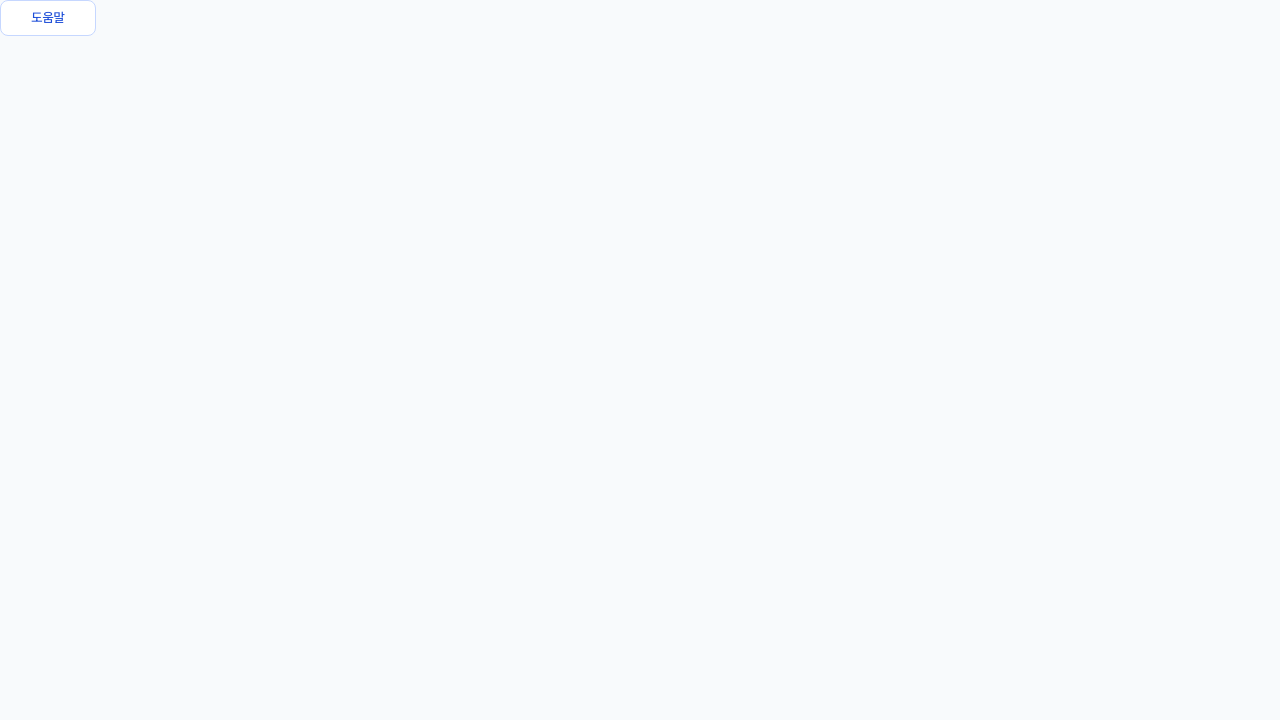
Test: an adapter failure is reported as a system error and a restart really retries
The image size is (1280, 720).
Click the button "도움말" at (48, 18), box left=0, top=0, right=96, bottom=36
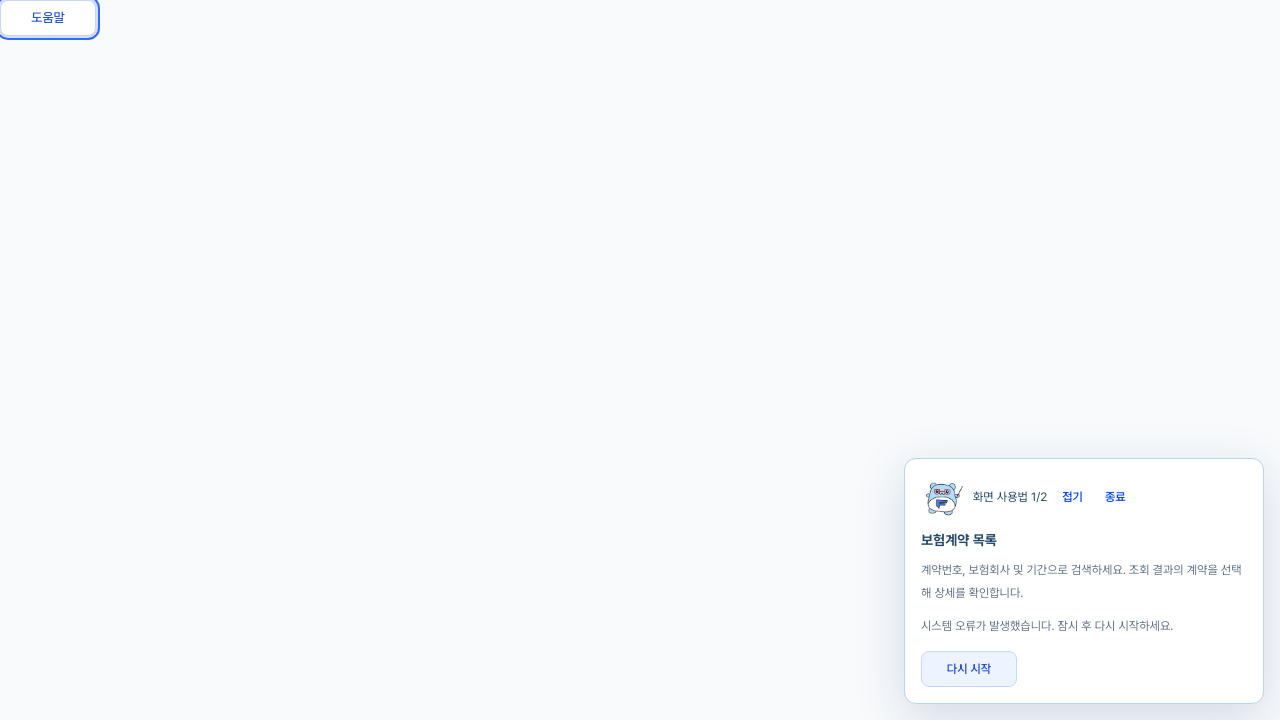
Expected: the text "시스템 오류가 발생했습니다. 잠시 후 다시 시작하세요." is shown, left=921, top=619, right=1173, bottom=633
Click the button "다시 시작" at (969, 669), box left=921, top=651, right=1017, bottom=687
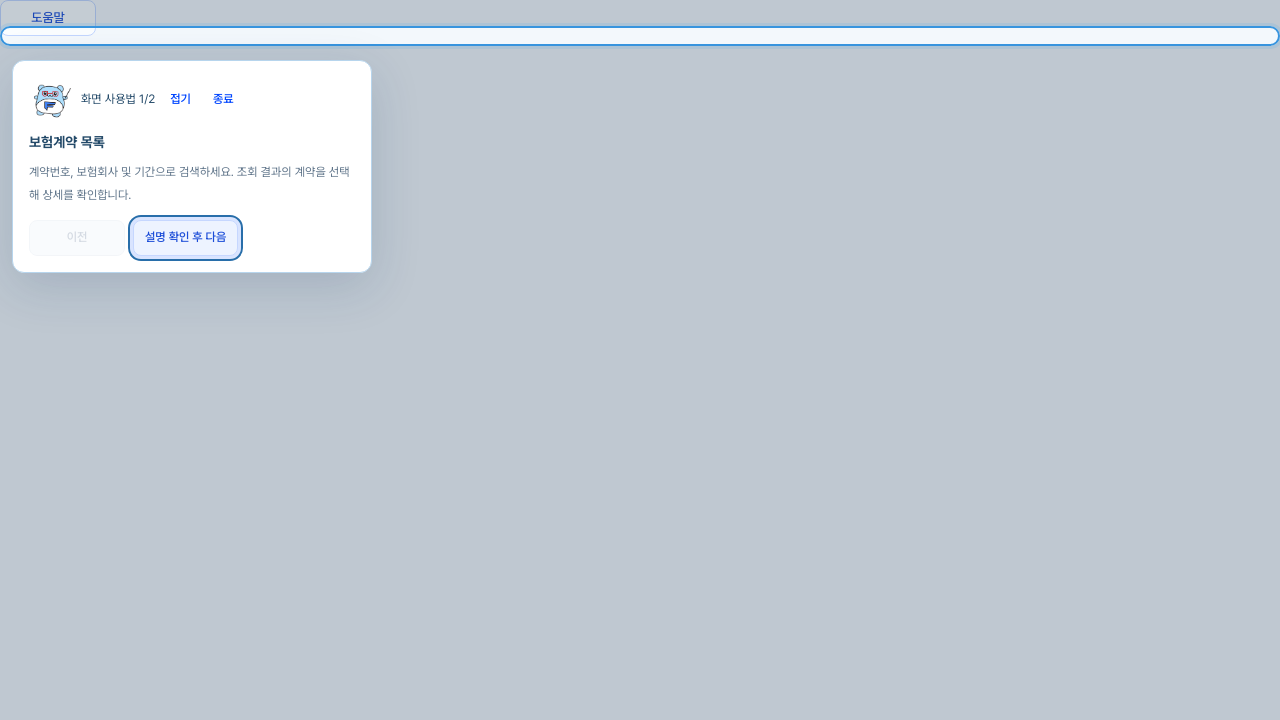
Expected: the text "시스템 오류가 발생했습니다" is gone
